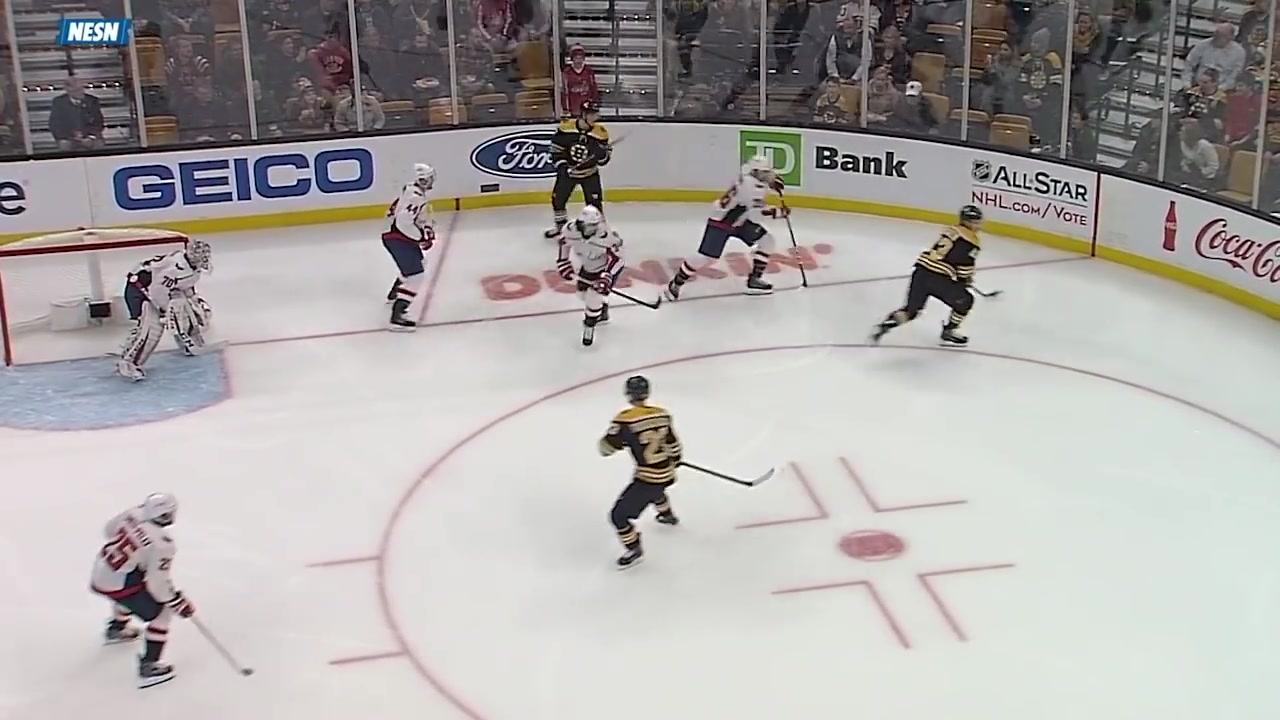Geico: (103, 149, 385, 210)
